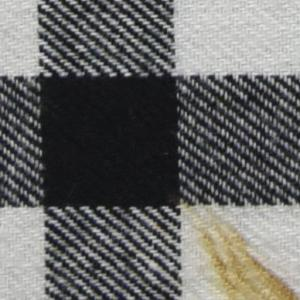Oil Stain: (179, 197, 300, 300)
